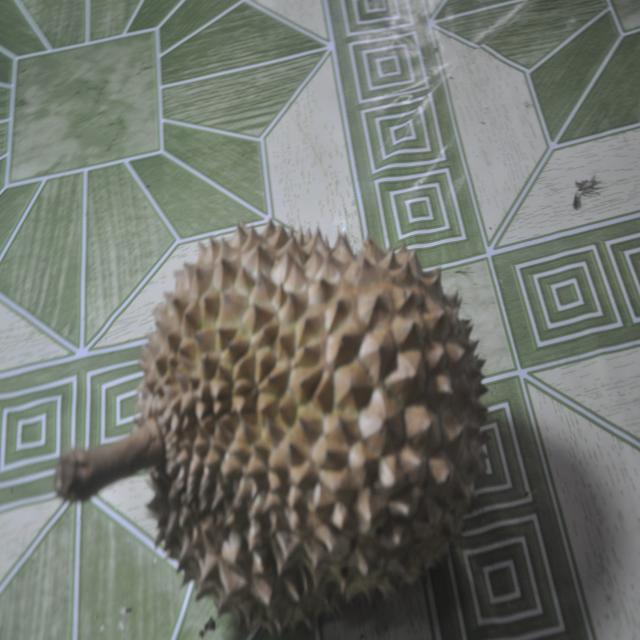mature: (55, 223, 486, 632)
